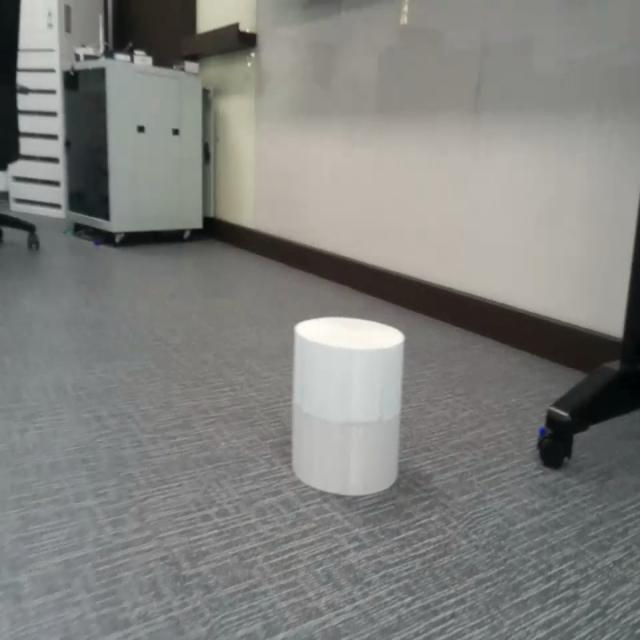cylinder: (293, 316, 404, 496)
